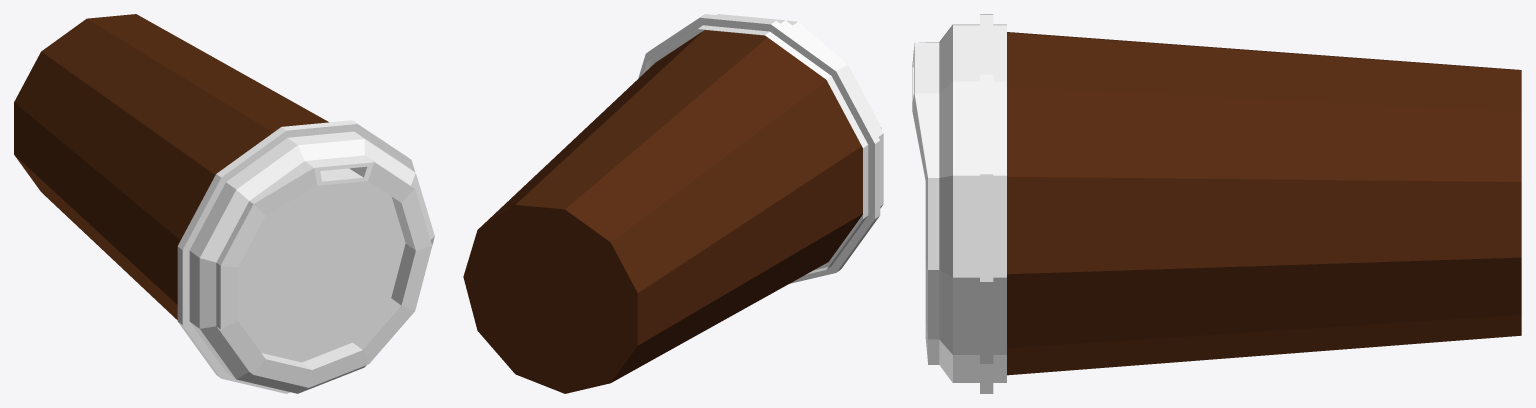
File: coffee2go.obj
3 views of the same model, side by side, from view 1: azimuth 30°, elevation 25°; view 2: azimuth 150°, elevation 25°; view 3: azimuth 270°, elevation 25° (orthographic). The views are drawn at different scales.
Visible parts, largest first — view 1: Object_4, Object_3, Object_5; view 2: Object_3, Object_5, Object_4; view 3: Object_3, Object_4, Object_5.
Boxes of the visible parts, box(x1,y1,x2,y2) form: Object_4: box(180, 131, 434, 393); Object_3: box(14, 14, 328, 319); Object_5: box(177, 120, 414, 393); Object_3: box(463, 30, 862, 393); Object_5: box(638, 14, 880, 283); Object_4: box(643, 14, 883, 274); Object_3: box(1007, 32, 1521, 375); Object_4: box(912, 24, 1006, 382); Object_5: box(980, 14, 993, 393).
Bounding box in the file's own units: 2.8 × 2.83 × 4.5.
